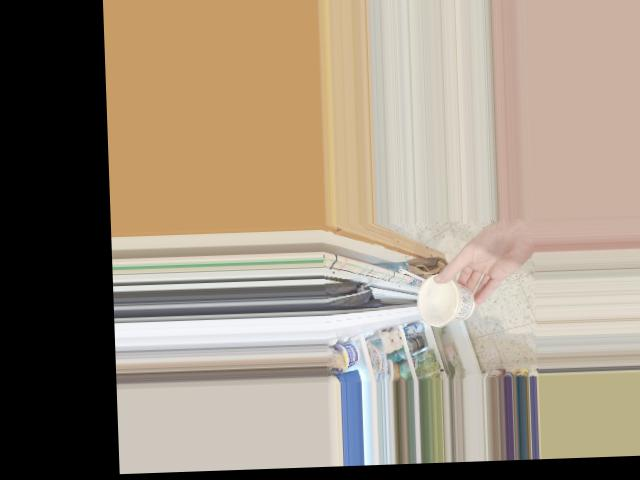cotage: (419, 279, 475, 325)
